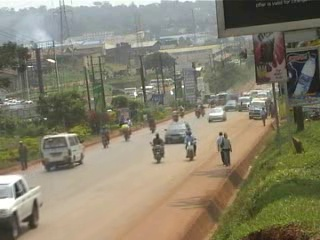Car: (161, 118, 196, 146), (207, 105, 227, 123), (222, 97, 241, 111)
Motorcycle: (146, 138, 167, 164), (182, 137, 199, 161), (97, 130, 112, 150), (121, 126, 131, 141), (146, 122, 156, 135), (171, 112, 181, 123), (192, 108, 201, 119), (179, 109, 185, 118)
